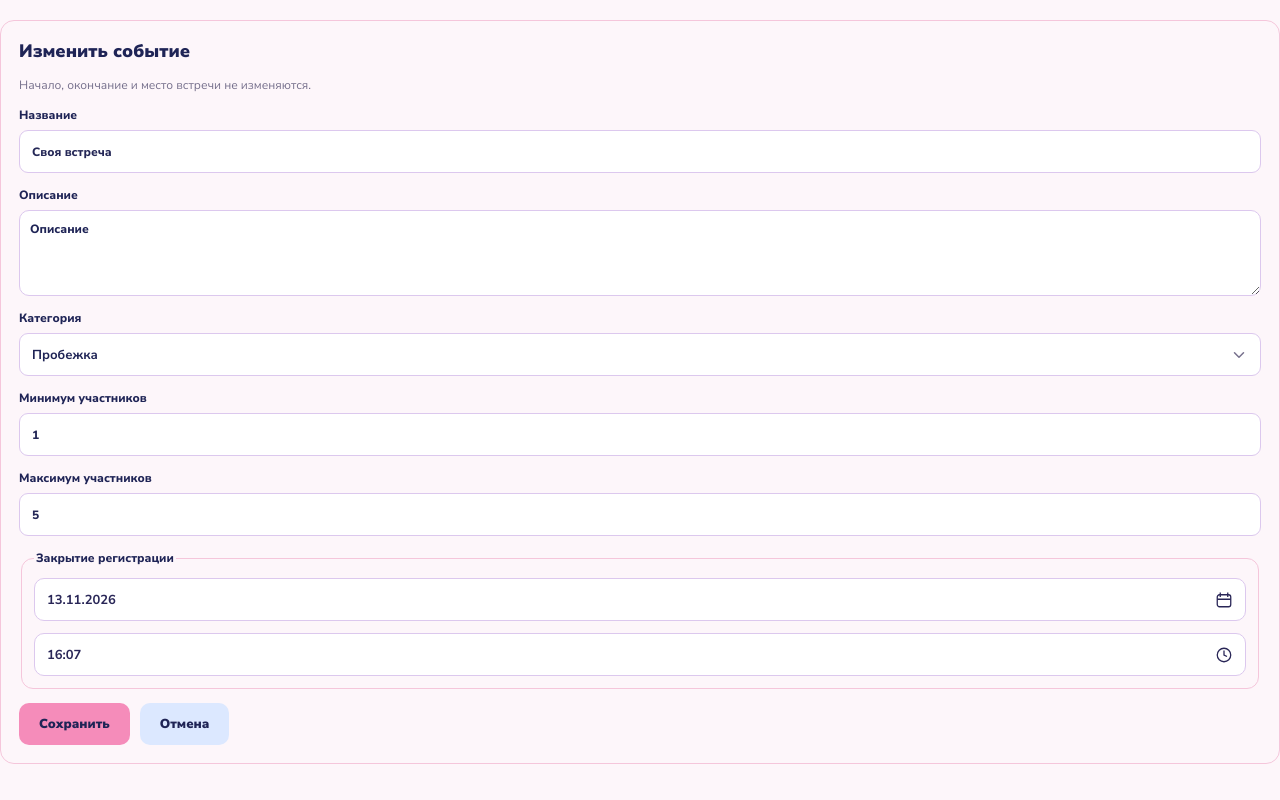
Scenario: показывает ошибки редактора только после сохранения, не отправляя невалидный PUT
Replace the text in the field labelled "Название" with "Ошибка!" at (640, 152), box [19,130,1261,173]
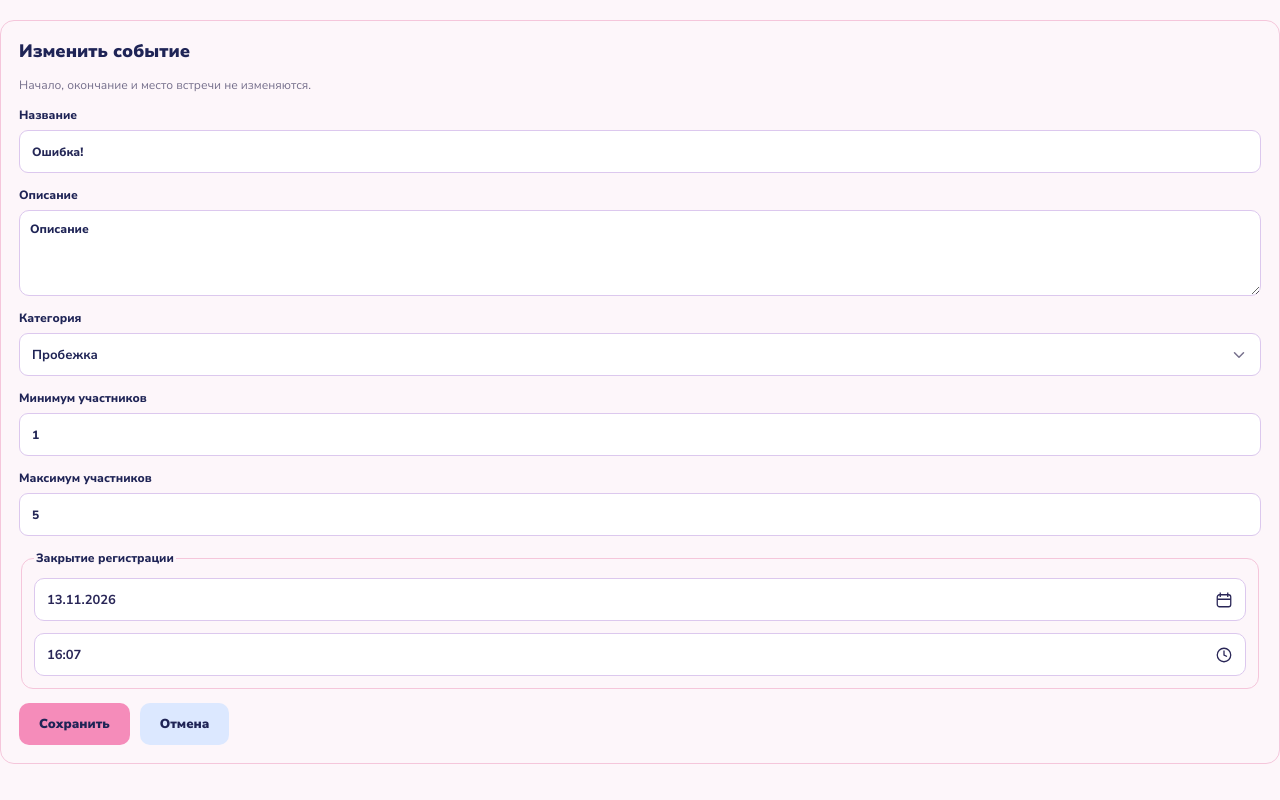
Expected: the submit button is enabled, [19,703,130,745]
Submit the form
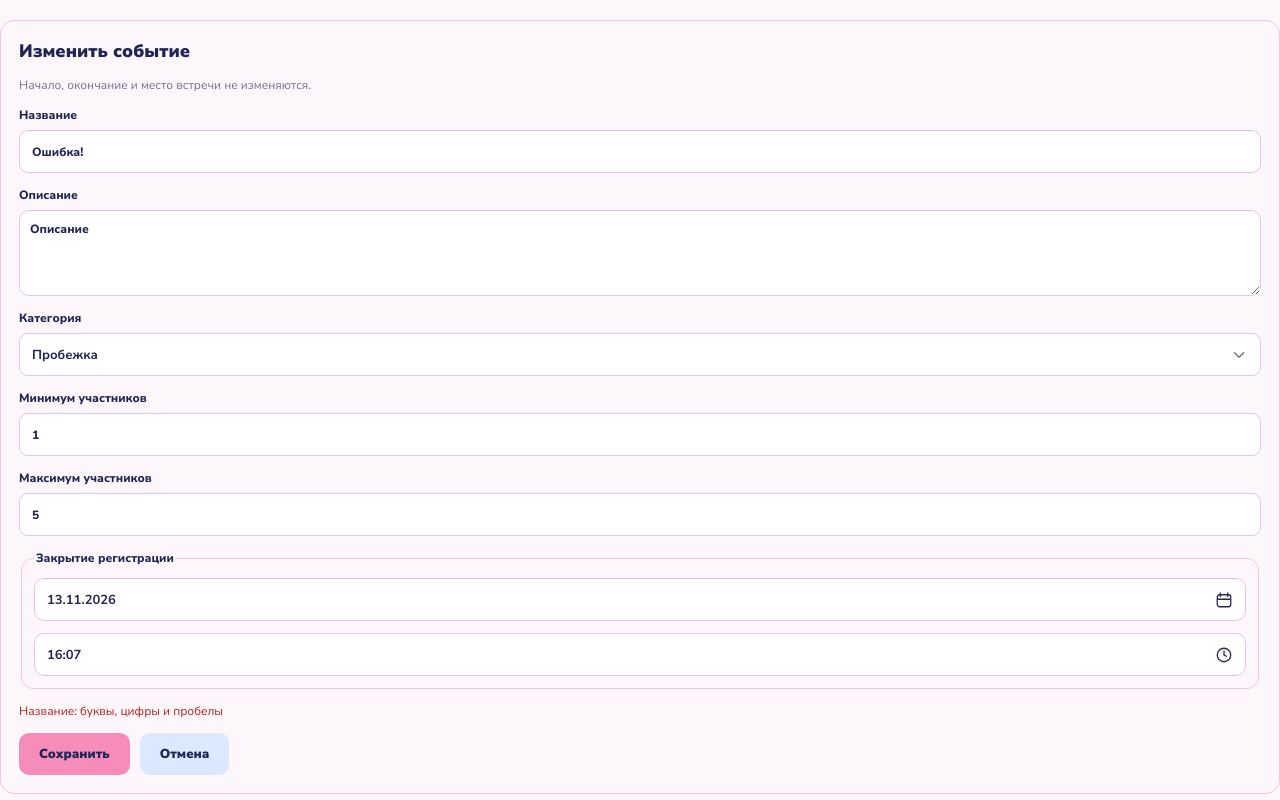
Expected: the form shows "Название: буквы", [19,703,223,719]
